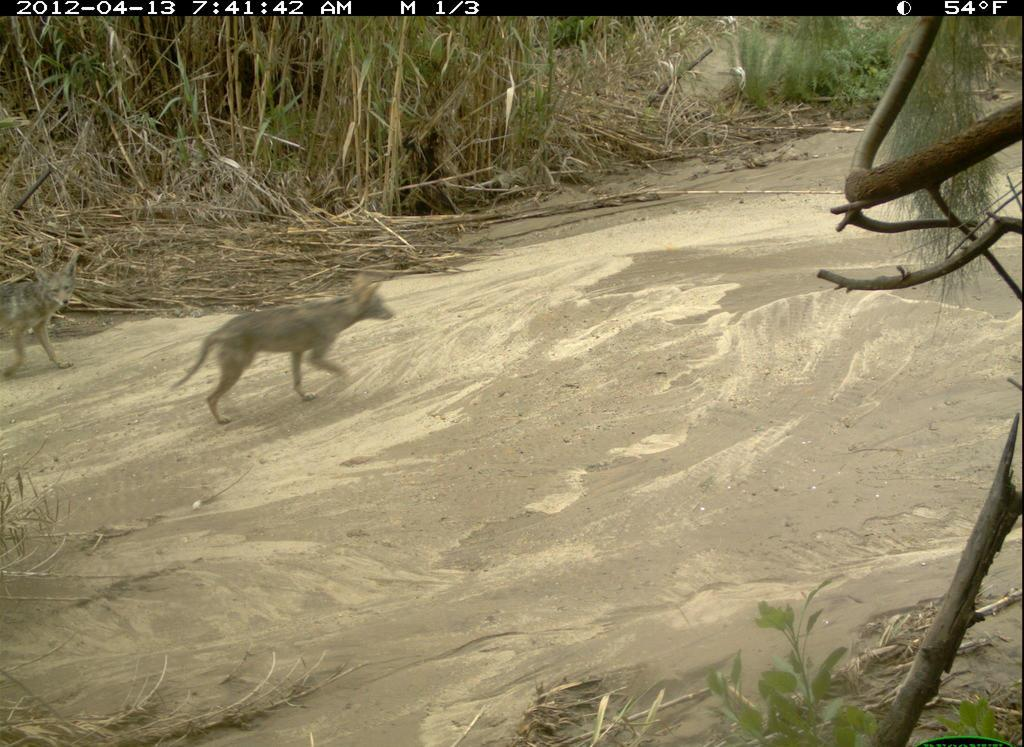coyote: (155, 265, 402, 434), (1, 232, 100, 418)
